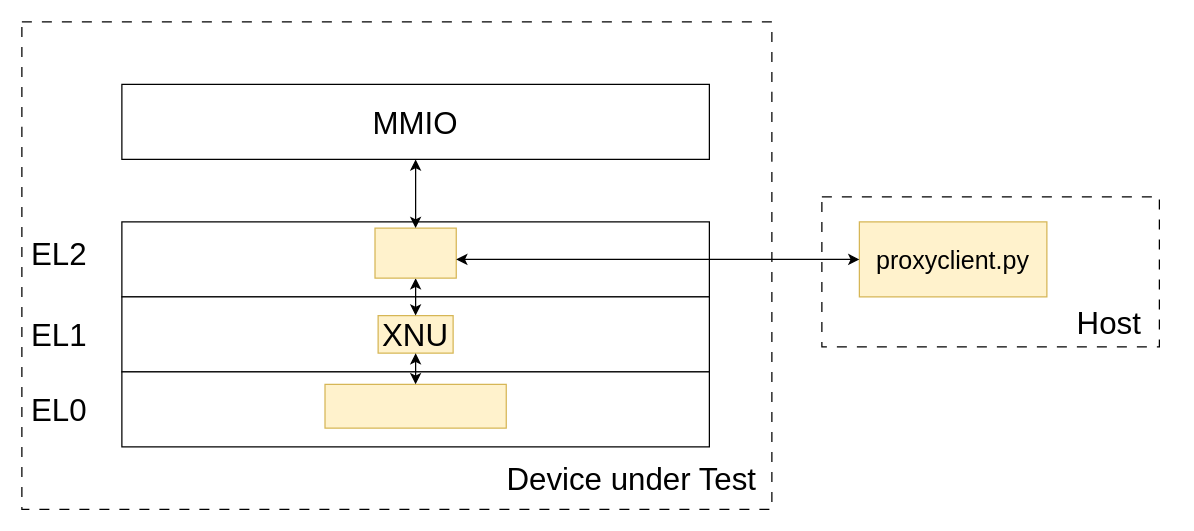
Some shapes in this 1194 by 531 pixel diagram are drawn without their labels. The centre of each missing label's shape, as x and y in pixels:
m1n1: the point at 415,252
userspace: the point at 415,405
